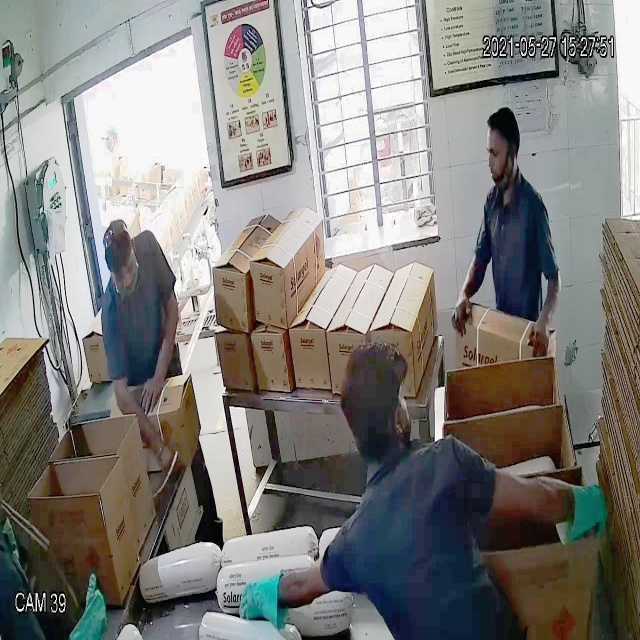Sin_gafas: (479, 138, 518, 166), (108, 255, 141, 286)
